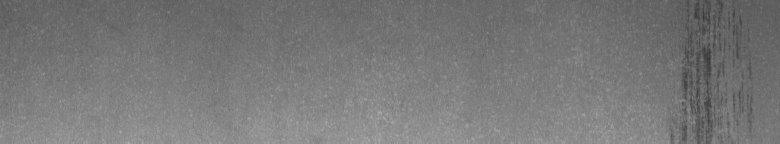ka: (676, 4, 751, 136)
